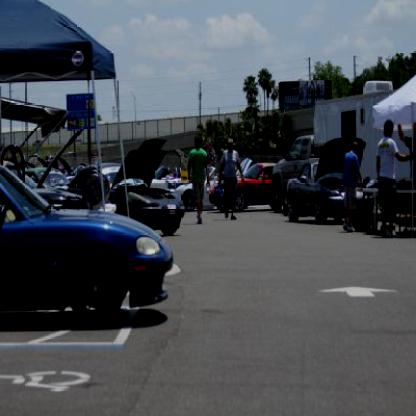car: (1, 160, 175, 328), (286, 136, 380, 228), (107, 140, 186, 238), (1, 128, 86, 209), (212, 160, 276, 214), (172, 164, 224, 212)
